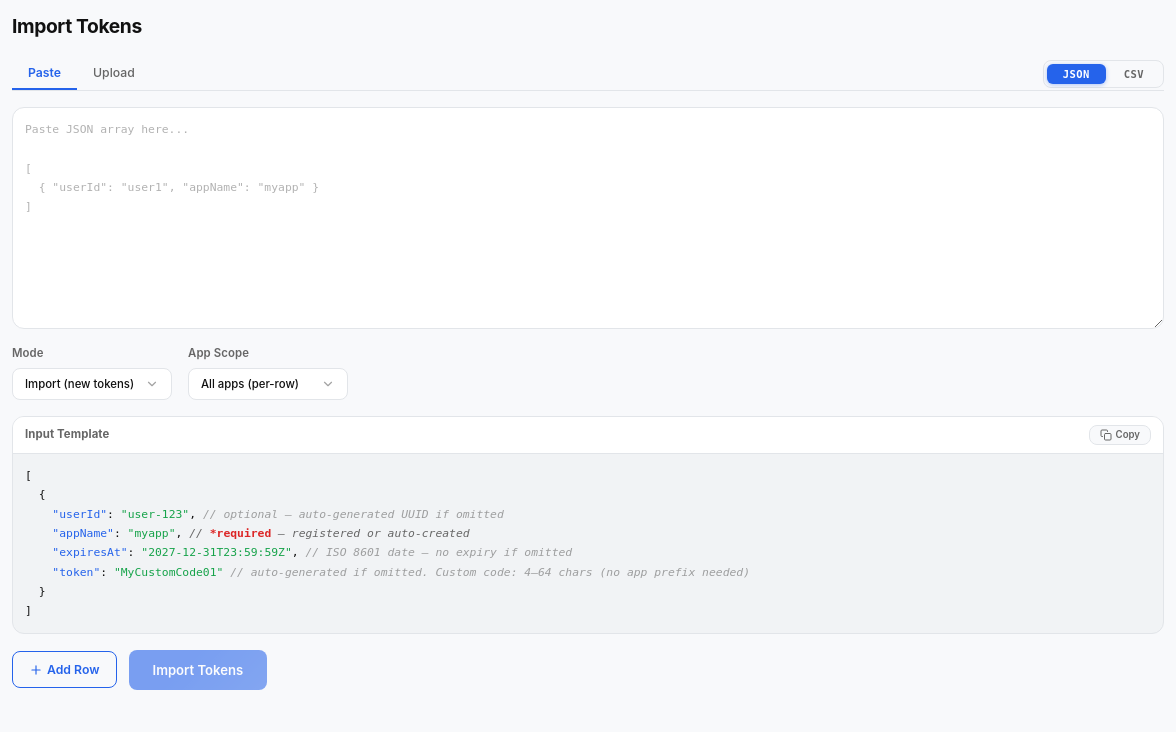
it: ImportPage › shows upload tab with drop zone
The image size is (1176, 732).
Click the button "Upload".
click(114, 73)  # box [77,57,151,90]
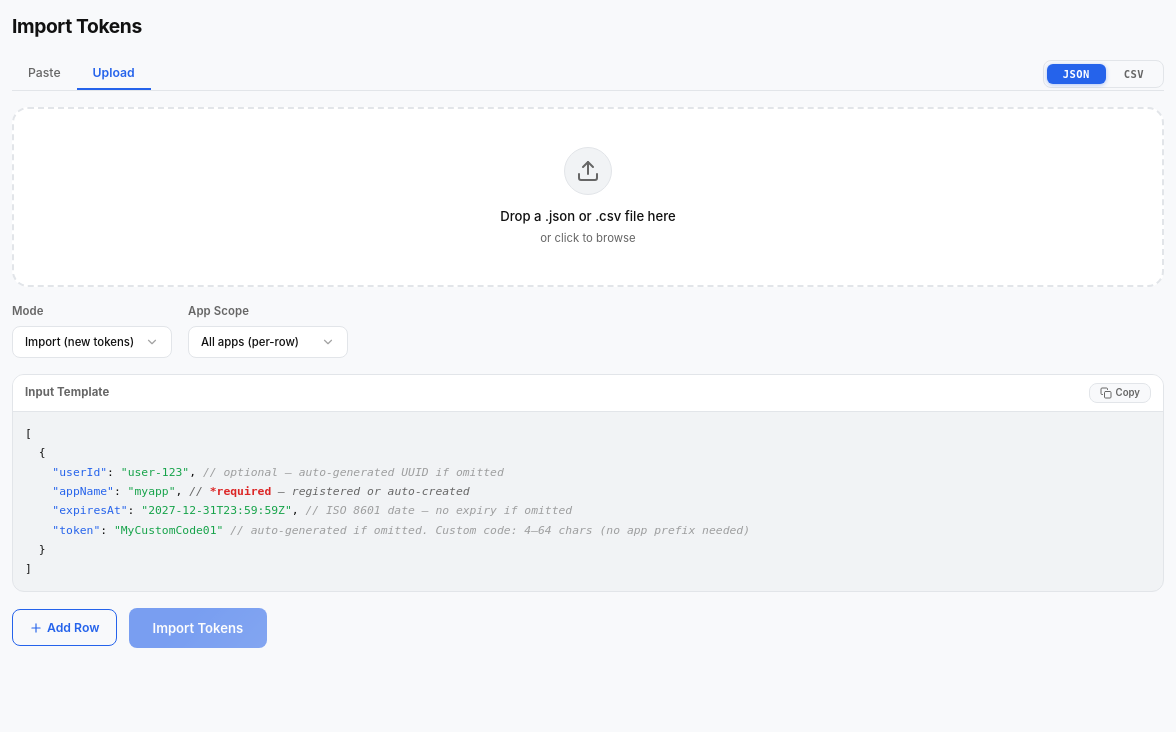
Expected: the text "Drop a .json or .csv file here" is shown, [500,208,676,224]
Expected: the text "or click to browse" is shown, [540,231,636,245]
